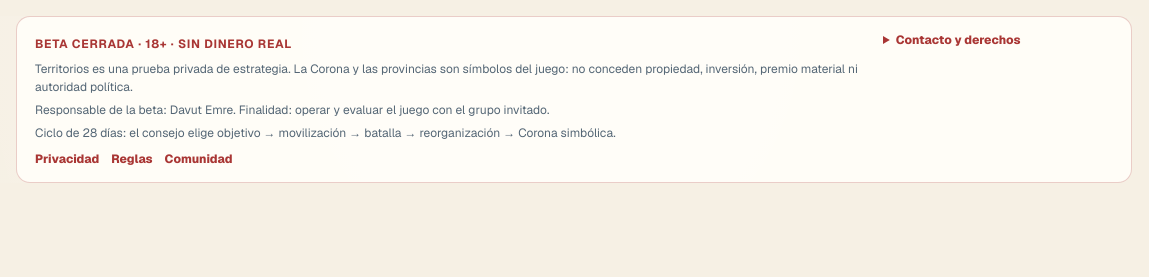
Test: BetaOperations › submits a fixed-vocabulary privacy request without free text
Click the heading "Contacto y derechos". click: point(958, 40)
box: [896,32,1020,48]
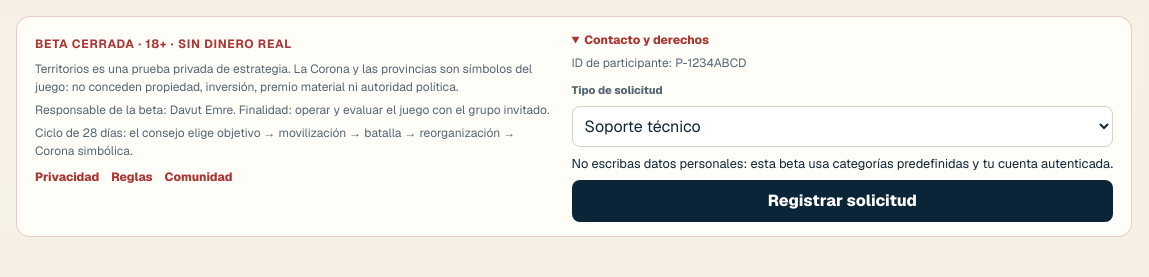
Select "Salir y eliminar mis datos" in the dropdown labelled "Tipo de solicitud". click: point(842, 126)
box: [572,106,1113,146]
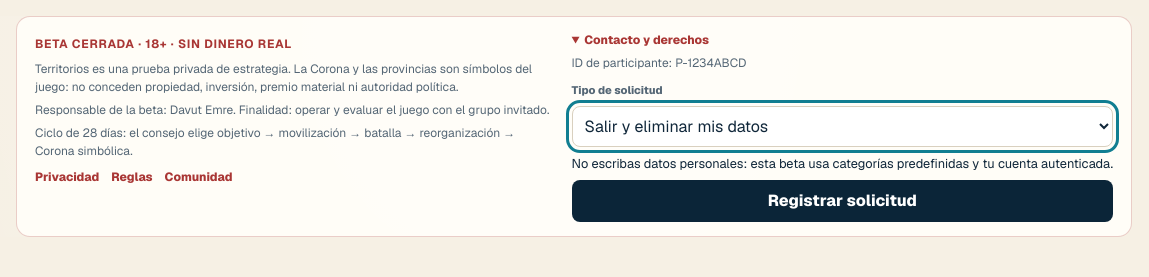
Click the button "Registrar solicitud". click: point(842, 201)
box: [572,180,1113,222]
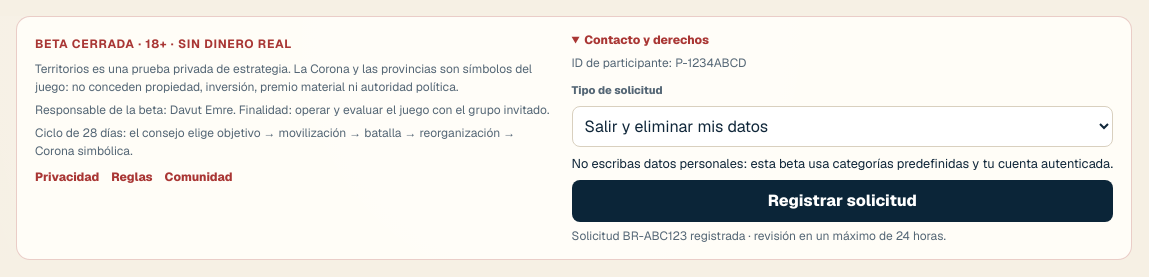
Now the text "Solicitud BR-ABC123 registrada · revisión en un máximo de 24 horas." is shown, box [572,228,946,244]
